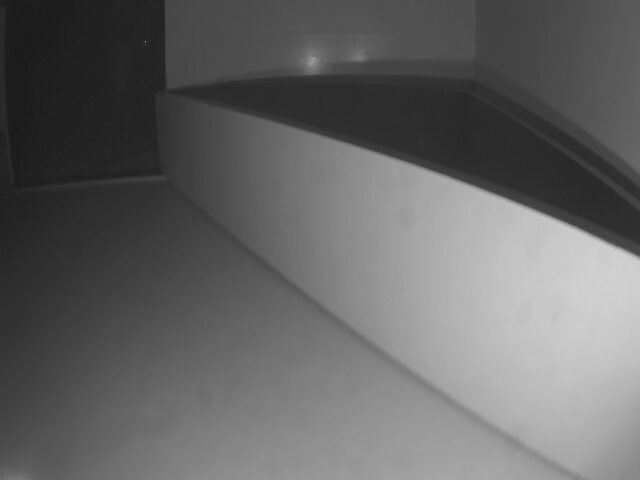Red: (154, 94, 640, 480)
